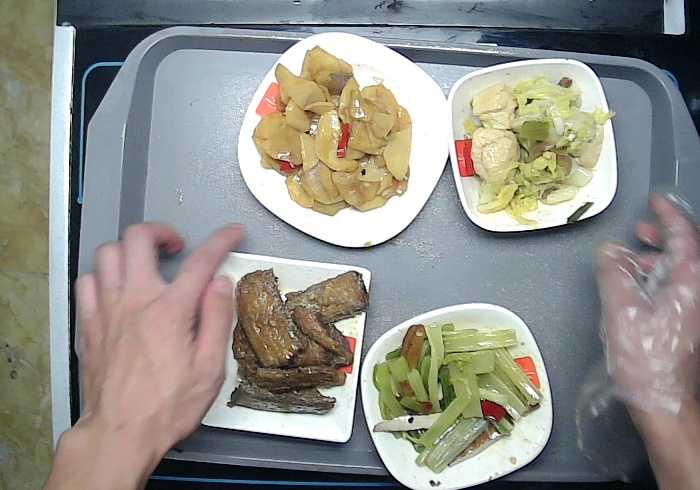SHKJ-Bai_Se_Cai_Die: (359, 302, 554, 490)
SHKJ-Bai_Se_Si_Fang_Cai_Die: (236, 31, 451, 248)
SHKJ-Bai_Se_Xiao_Fang_Die: (445, 58, 619, 236)
SHKJ-Si_Fang_Min: (192, 253, 372, 444)
